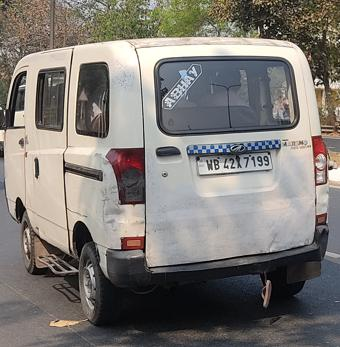Truck: (3, 36, 332, 332)
